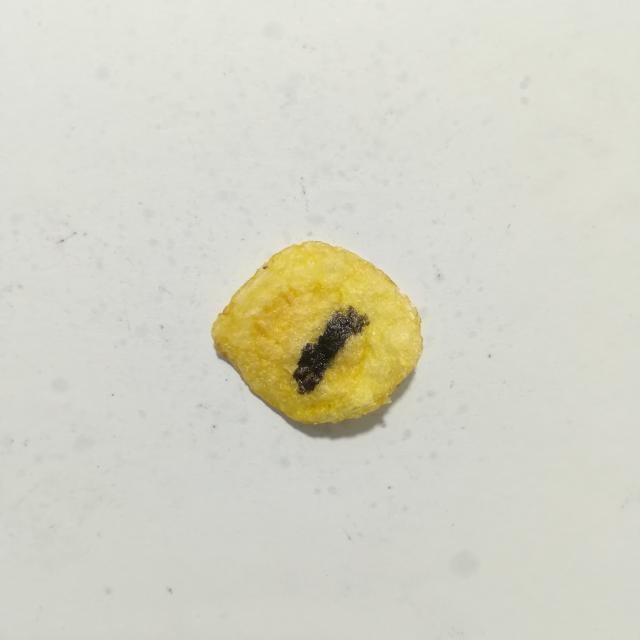chip: (211, 241, 422, 424)
damaged: (293, 307, 369, 394)
